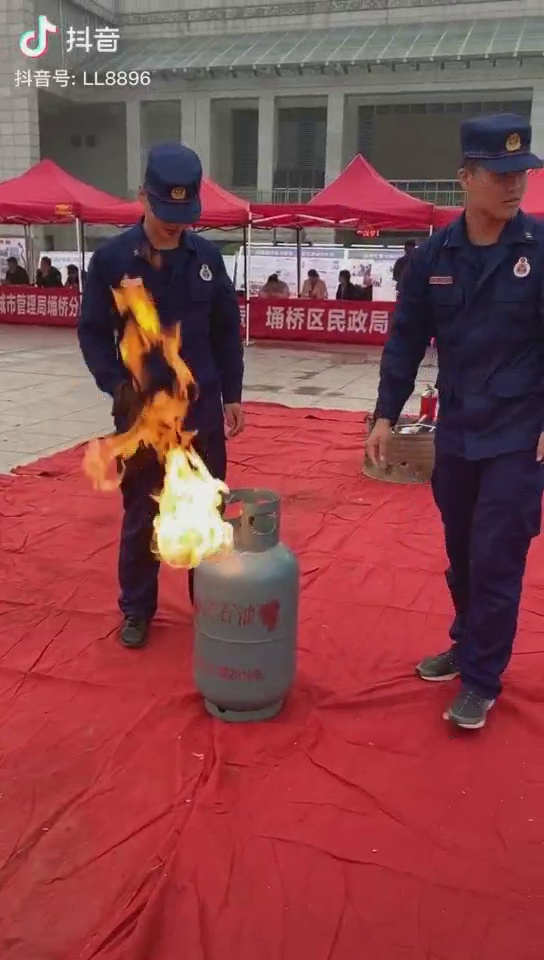fire: (103, 349, 243, 568)
